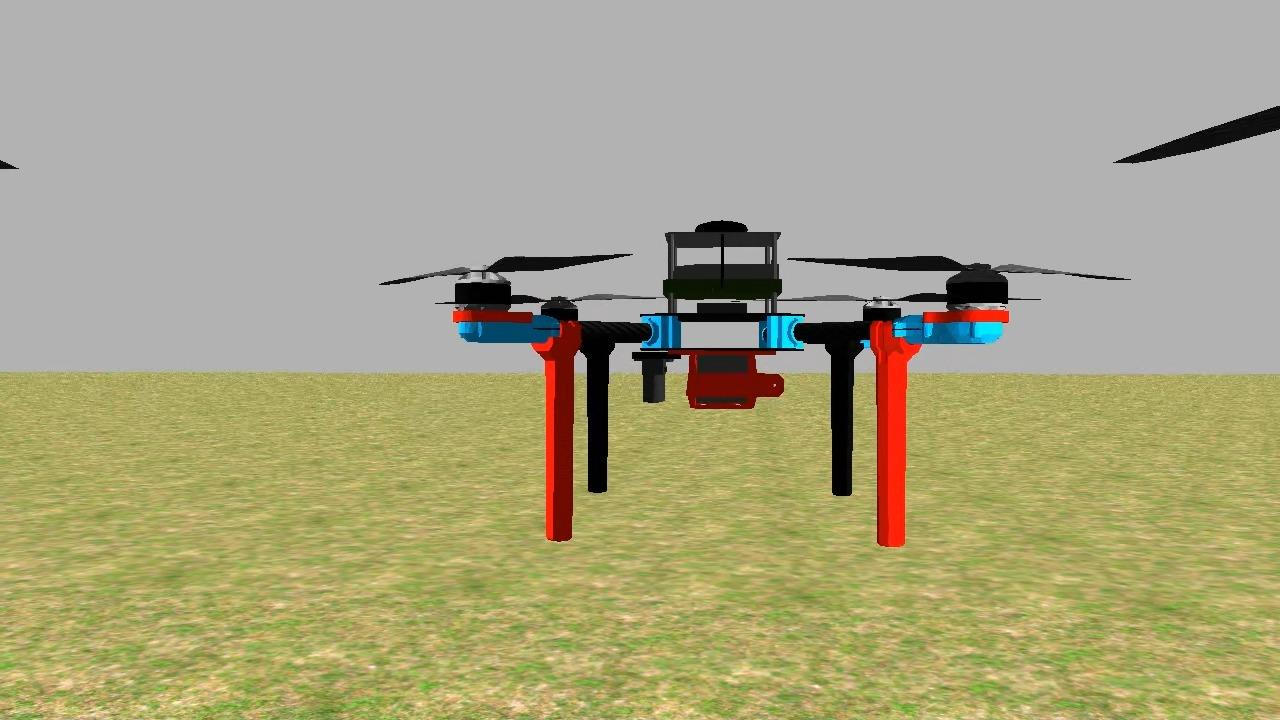UAV: (439, 212, 1033, 582)
